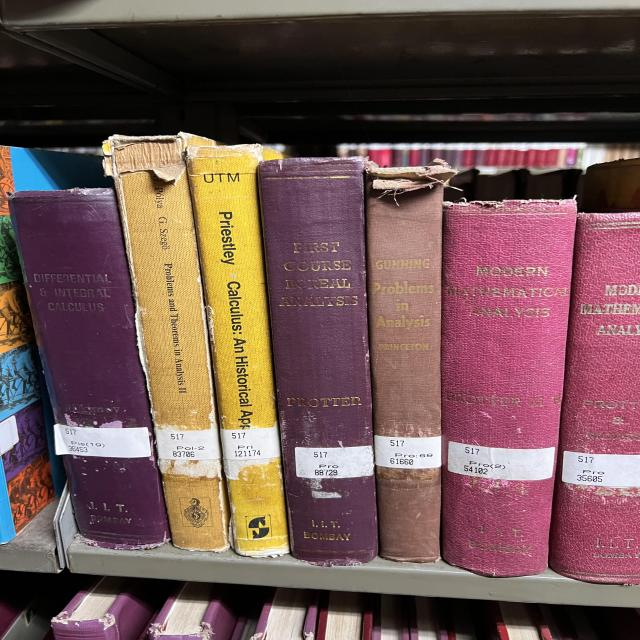Book: (10, 189, 170, 549), (105, 135, 228, 551), (442, 200, 577, 576), (258, 159, 378, 565), (187, 145, 288, 556), (365, 159, 455, 562), (550, 211, 640, 584)
Label: (448, 441, 555, 481), (53, 424, 152, 458), (562, 451, 640, 488), (295, 446, 373, 479), (375, 435, 442, 469), (220, 425, 280, 460), (155, 428, 220, 460)
